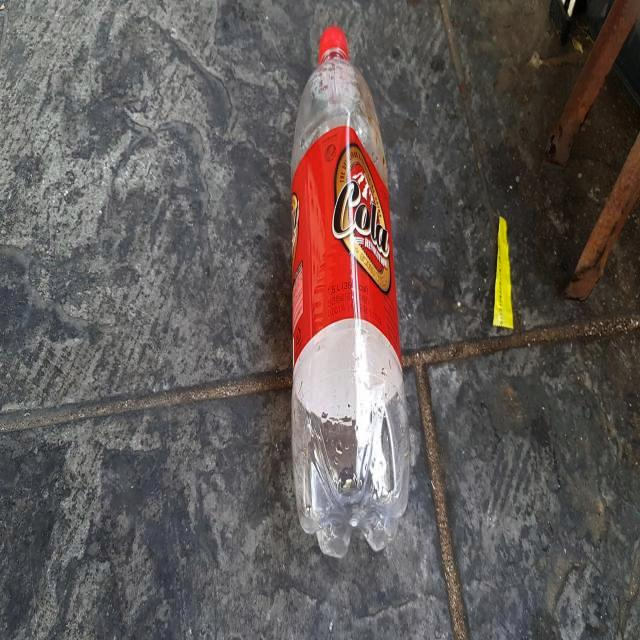bottle: (291, 28, 411, 559)
